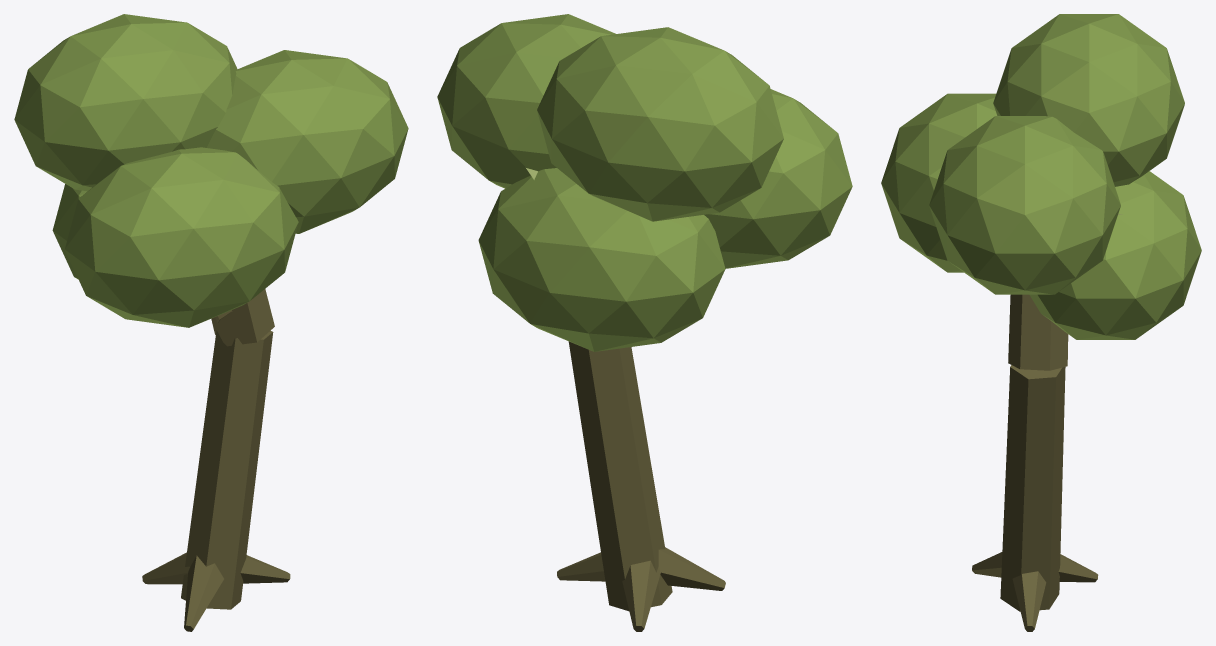
Rendered from map-boundaries-v5__meadow_05.glb.
The picture shows the model from 3 angles, left to right: view 1: azimuth 30°, elevation 25°; view 2: azimuth 150°, elevation 25°; view 3: azimuth 270°, elevation 25°; orthographic projection. The views are drawn at different scales.
Parts seen in each view (by area): view 1: meadow_05; view 2: meadow_05; view 3: meadow_05.
Part boxes in pixels (<box>): meadow_05: <box>14,14,408,631</box>; meadow_05: <box>437,14,852,631</box>; meadow_05: <box>881,14,1201,631</box>.
Bounding box in the file's own units: 1.9 × 3.05 × 1.6.
